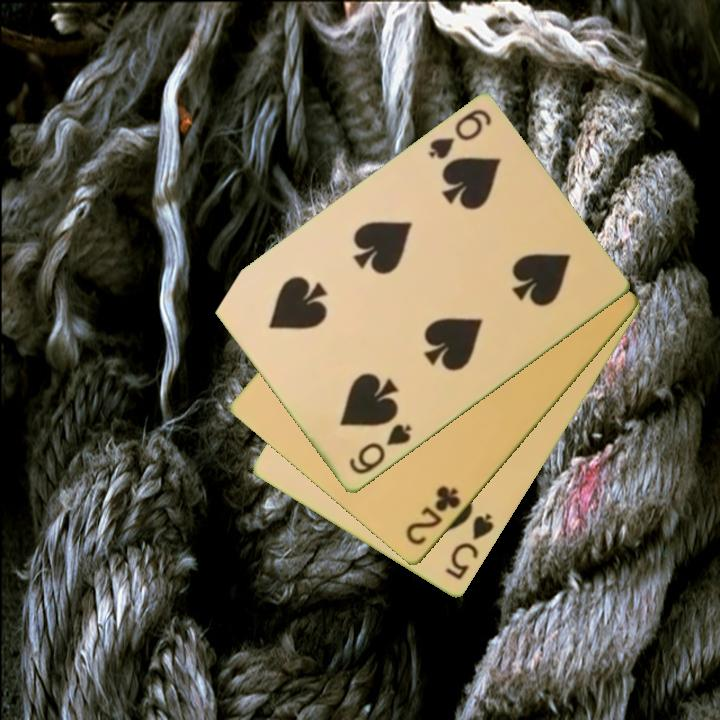2c: (402, 482, 464, 549)
5s: (442, 510, 497, 584)
6s: (345, 420, 415, 479), (424, 106, 495, 163)
